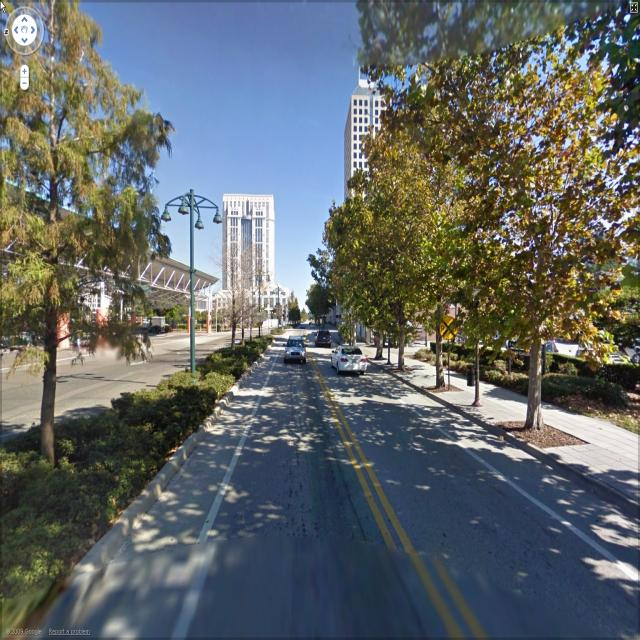b_2: (333, 68, 412, 310), (206, 173, 298, 333)
